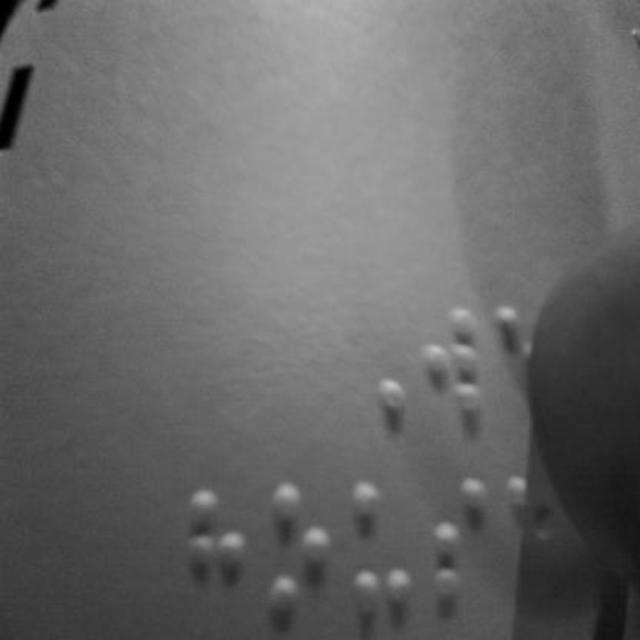braiile: (182, 482, 254, 630), (344, 480, 416, 624), (424, 475, 492, 625), (502, 469, 568, 621), (264, 484, 332, 630), (420, 300, 486, 430)
